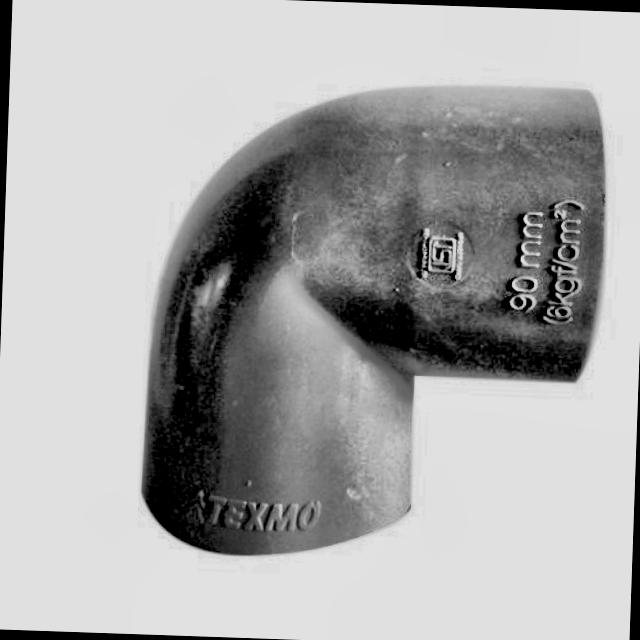ELBOW90: (137, 83, 609, 559)
